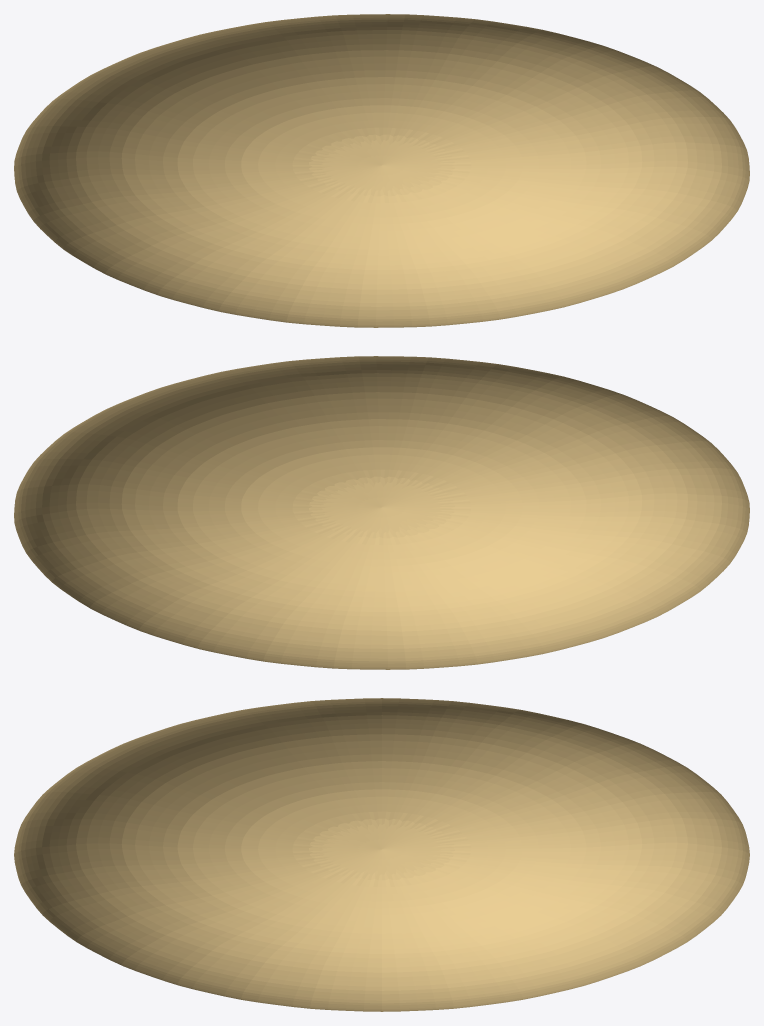
Rendered from pastry.fbx.
3 renders of one model, top to bottom at view 1: azimuth 30°, elevation 25°; view 2: azimuth 150°, elevation 25°; view 3: azimuth 270°, elevation 25°, orthographic.
Visible parts, largest first — view 1: Sphere; view 2: Sphere; view 3: Sphere.
Boxes of the visible parts, x1,y1,x2,y2 form: Sphere: (14,14,749,327); Sphere: (14,356,749,669); Sphere: (14,698,749,1011).
Size of the model in its own units: 88.61 by 3.52 by 88.61.
